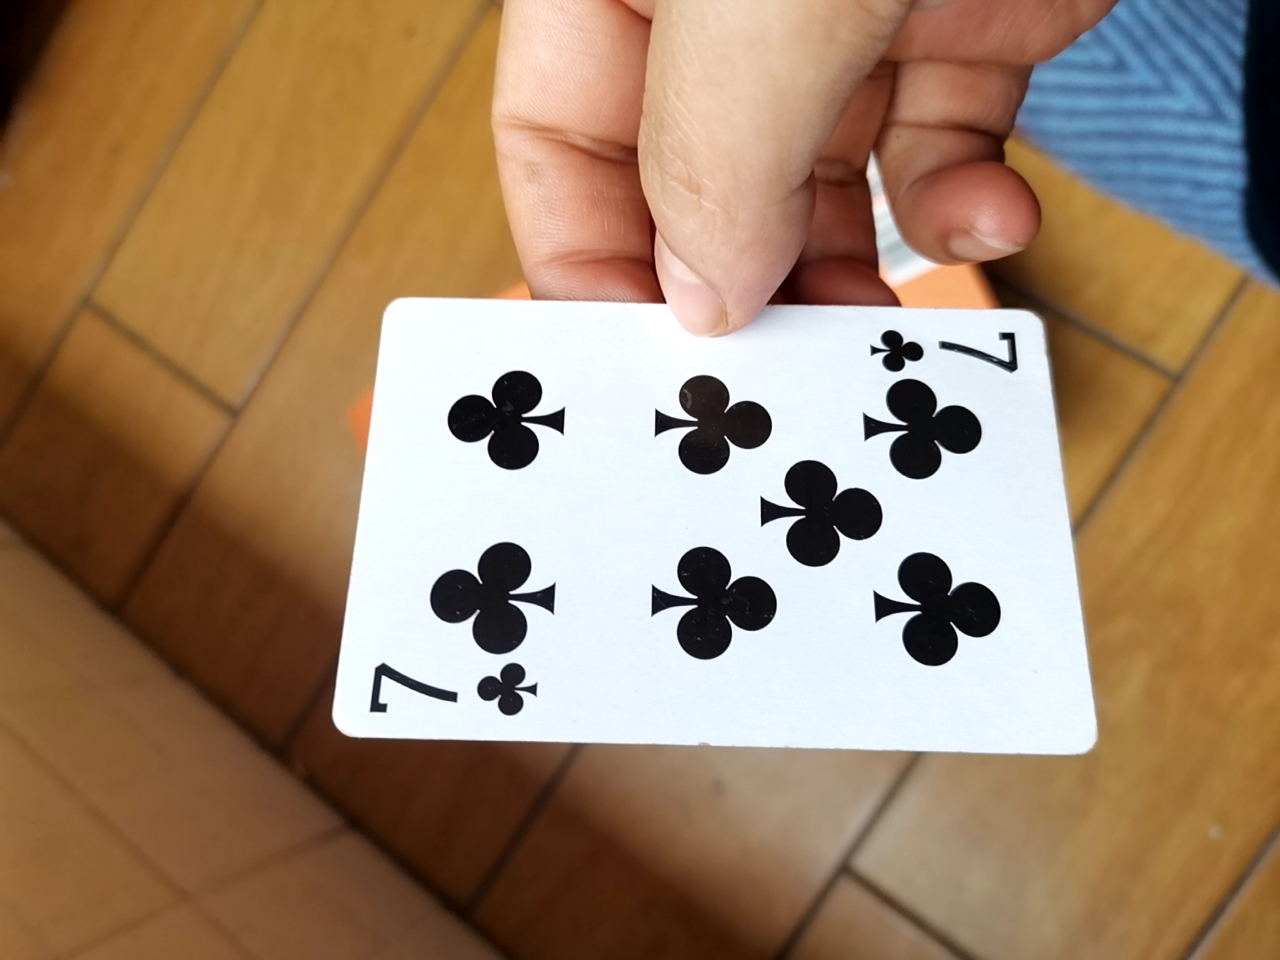mh 7: (322, 298, 1104, 769)
